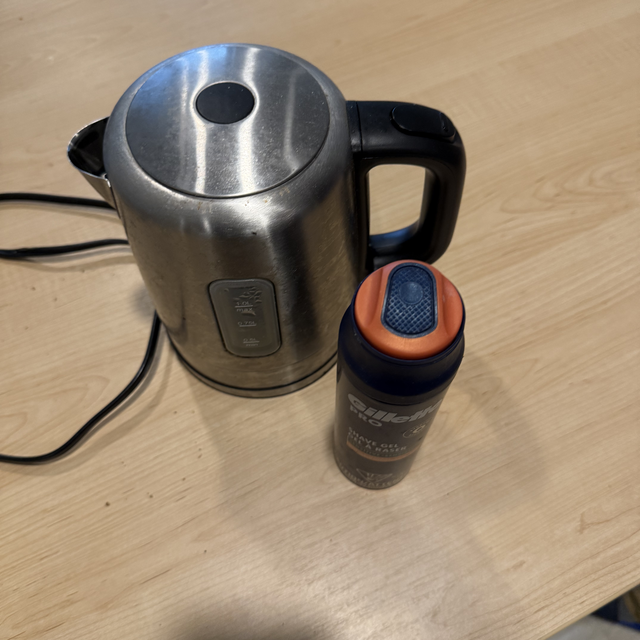Aerosol: (337, 260, 469, 509)
Kettle: (86, 42, 485, 436)
